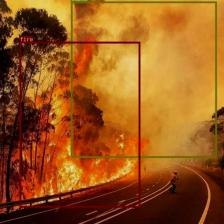fire: (19, 41, 140, 207)
smoke: (70, 1, 217, 158)
